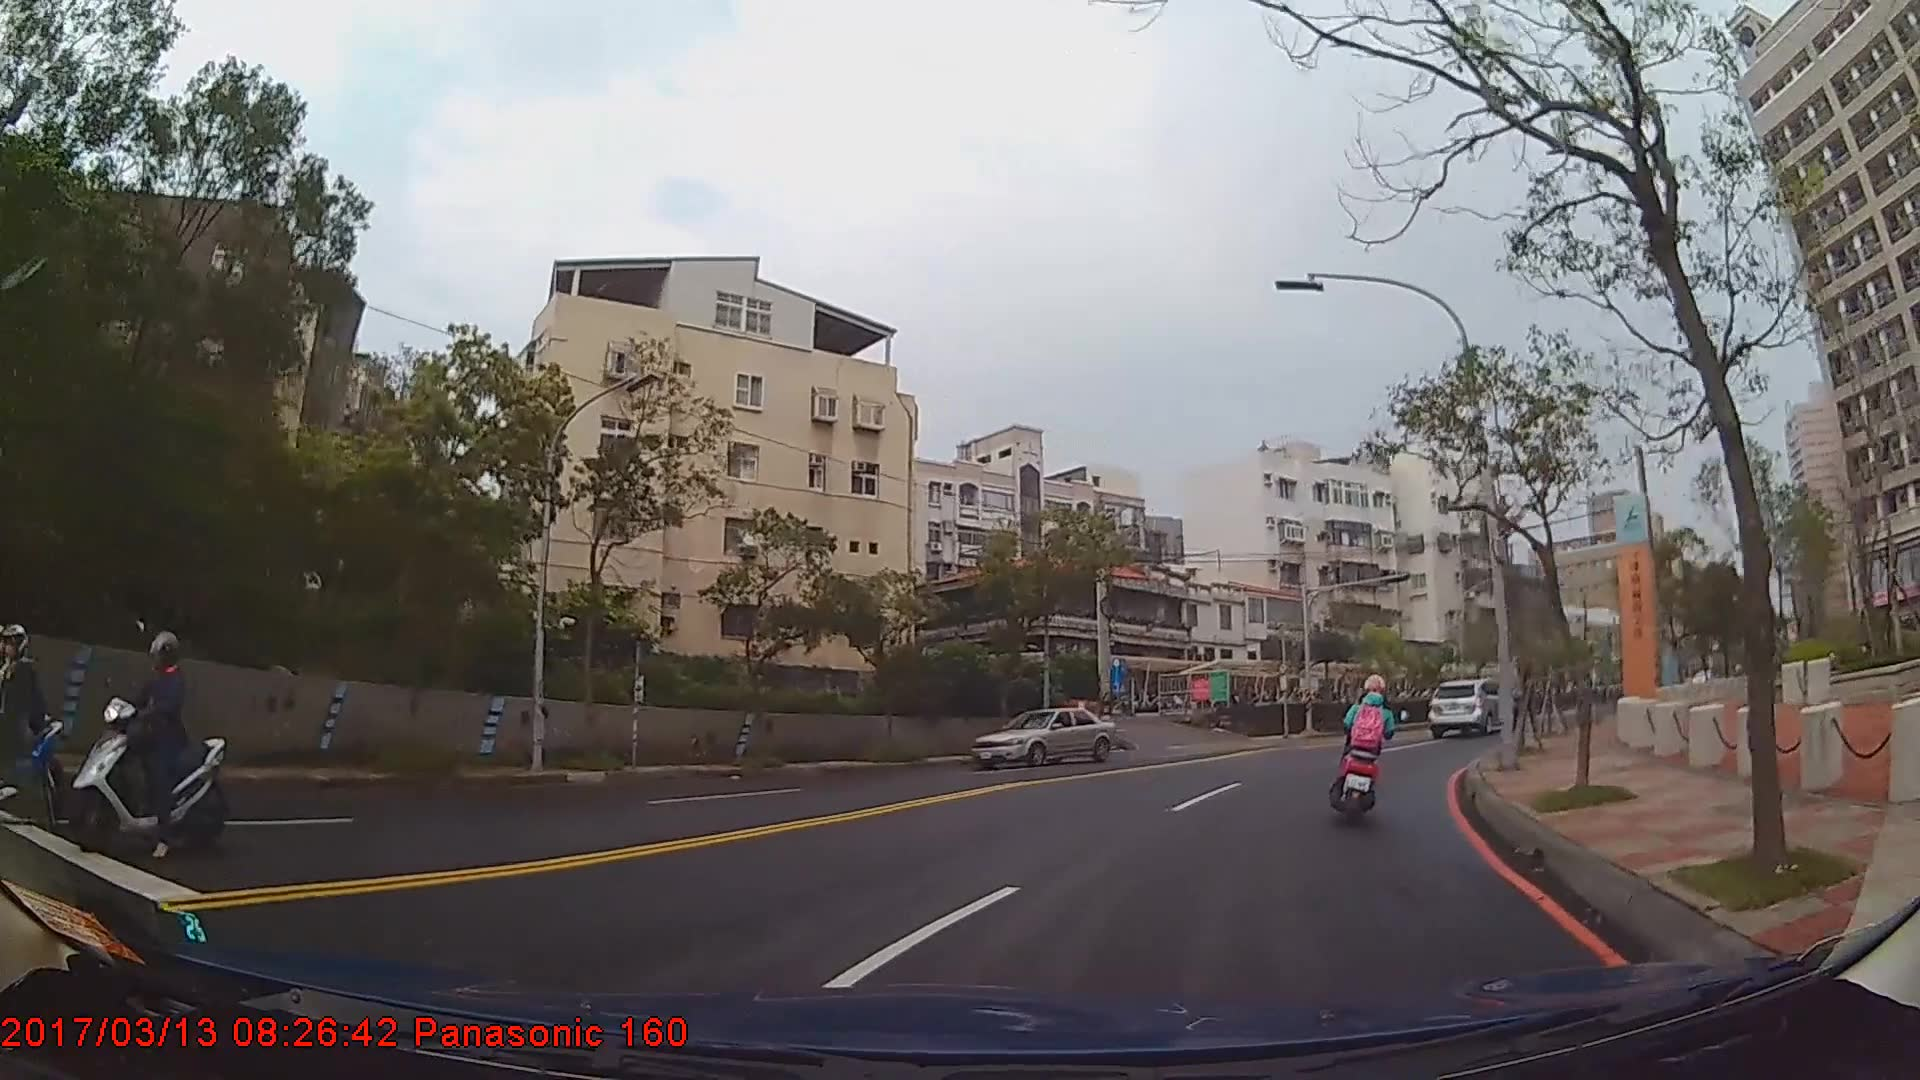rider: (76, 622, 222, 856), (1, 619, 64, 828), (1337, 671, 1401, 807)
vehicle: (967, 706, 1116, 766), (1427, 676, 1512, 738)
